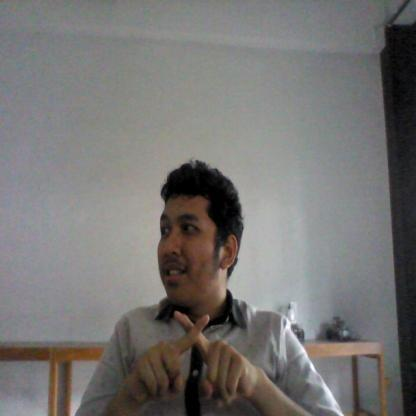X: (128, 309, 257, 408)
